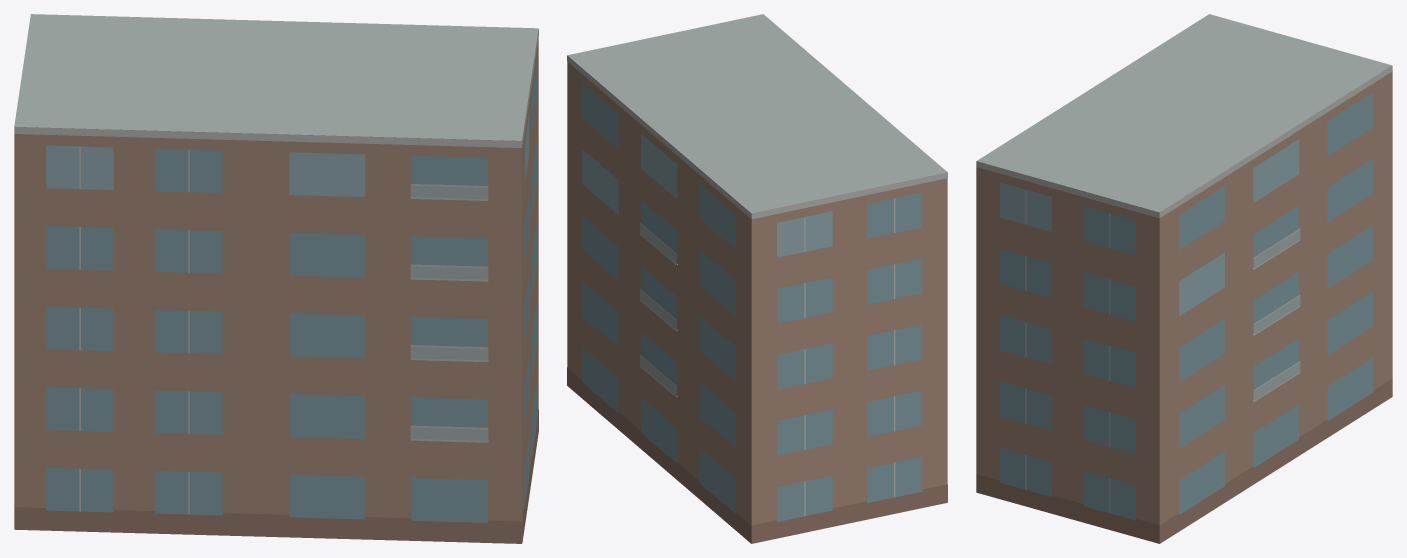
The model's file is survey-upis-32948564.glb.
The picture shows the model from 3 angles, left to right: view 1: azimuth 30°, elevation 25°; view 2: azimuth 150°, elevation 25°; view 3: azimuth 270°, elevation 25°; orthographic projection. The views are drawn at different scales.
Parts seen in each view (by area): view 1: survey-upis-32948564.tmp; view 2: survey-upis-32948564.tmp; view 3: survey-upis-32948564.tmp.
Part boxes in pixels (x1,y1,x2,y2): survey-upis-32948564.tmp: (14,14,538,543); survey-upis-32948564.tmp: (567,14,947,543); survey-upis-32948564.tmp: (976,14,1392,543).
Bounding box in the file's own units: 17.6 × 13.7 × 15.6.
